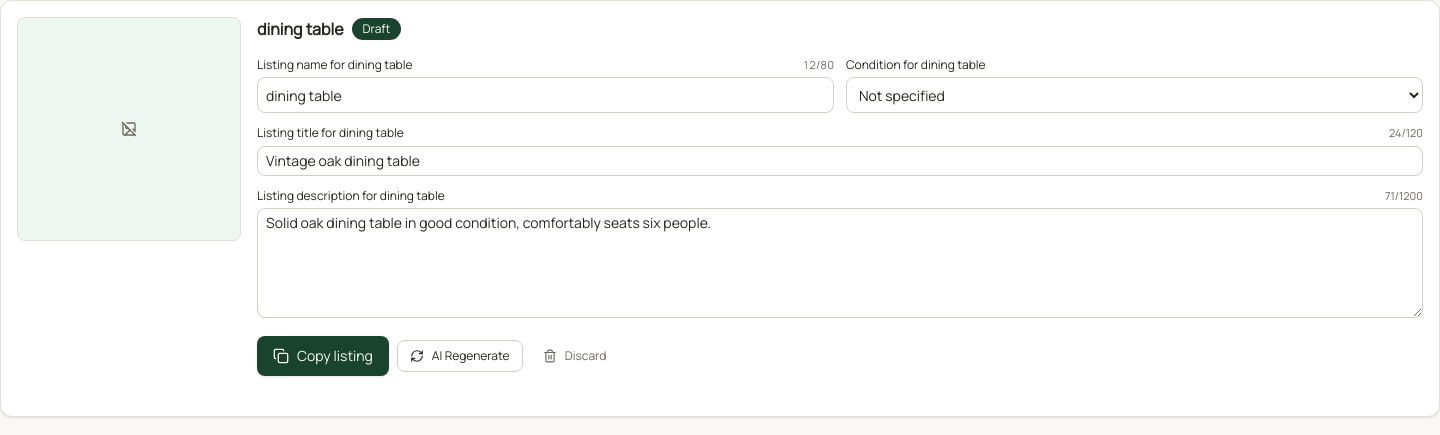
ListingDraftCard › copy listing › copy feedback is cleared when the draft text is edited
The width and height of the screenshot is (1440, 435).
Click the button "Copy listing". click: (323, 356)
box: [257,336,389,376]
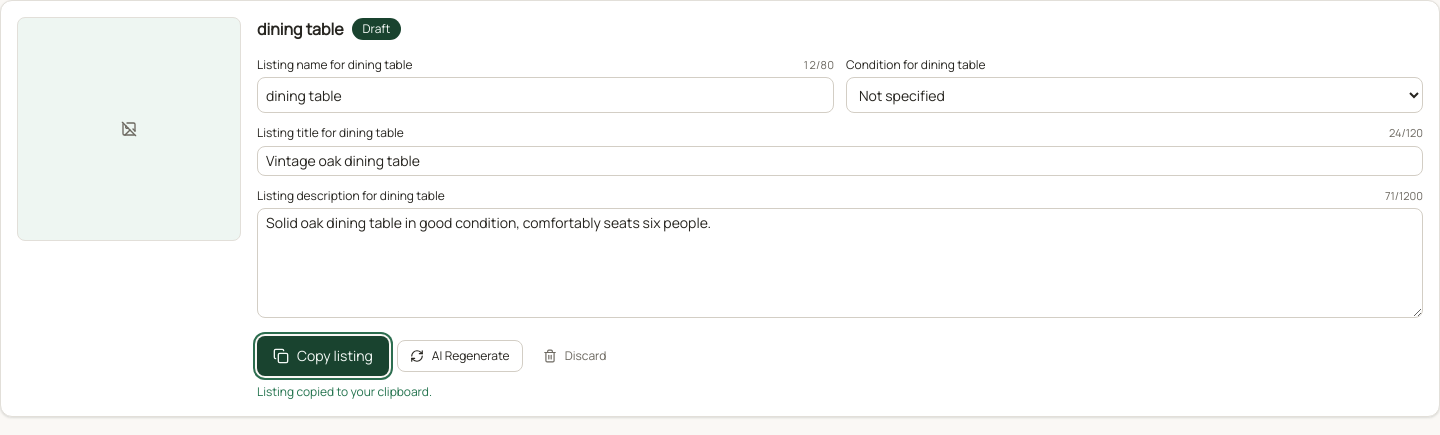
Expected: the text "Listing copied to your clipboard." is shown, [257,383,432,400]
Type "!" into the field labelled "Listing title for dining table". click: (840, 160)
box: [257,146,1423,176]
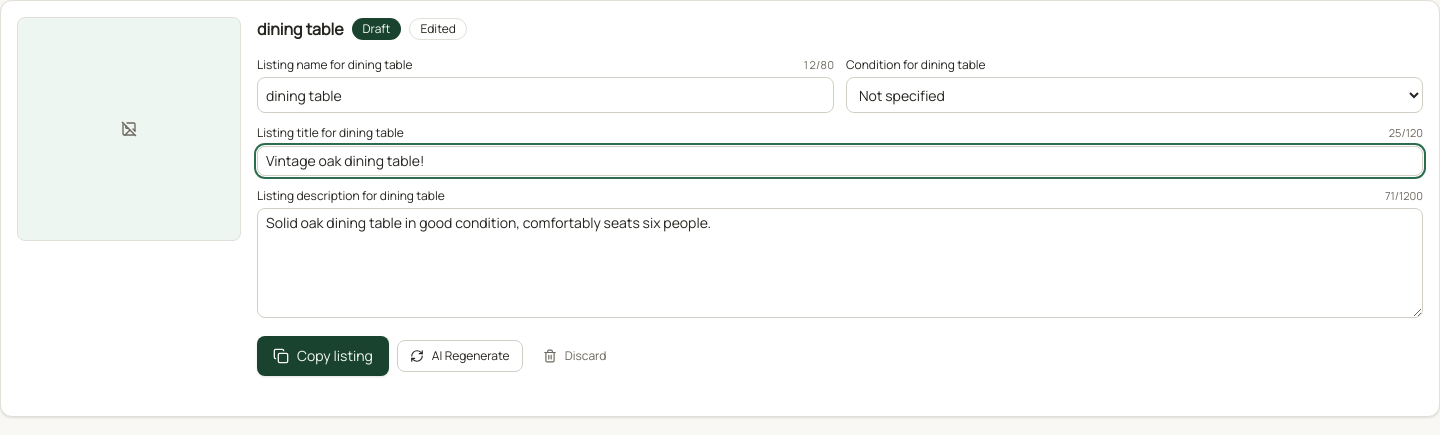
Expected: the text "copied to your clipboard" is gone
